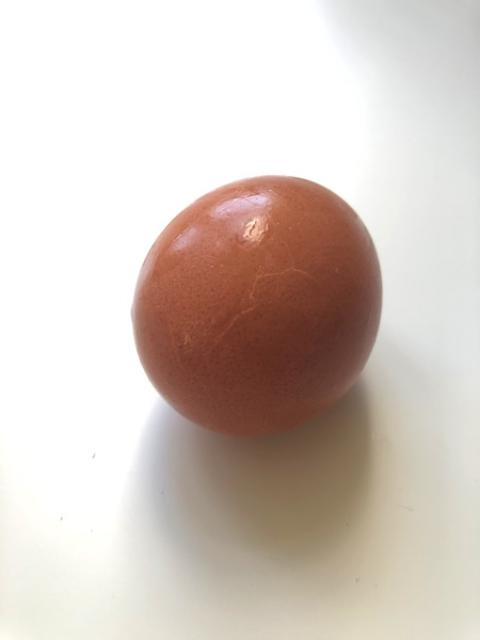Roto: (130, 173, 384, 437)
